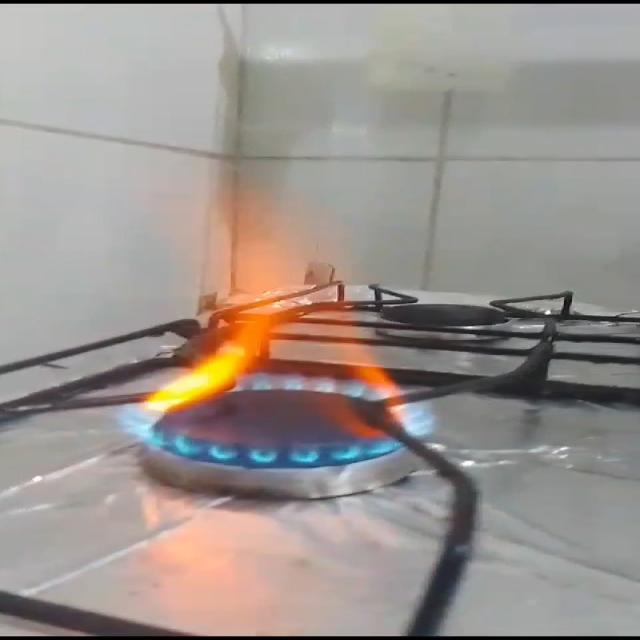fogo-ypXI: (112, 171, 441, 472)
